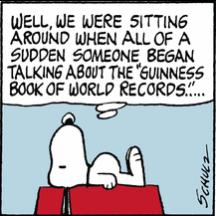snoopy: (47, 110, 149, 214)
